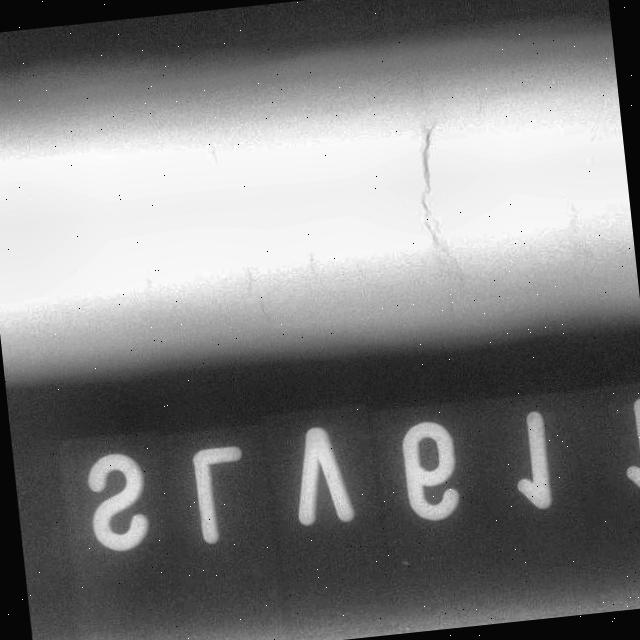Crack: (365, 79, 487, 318)
